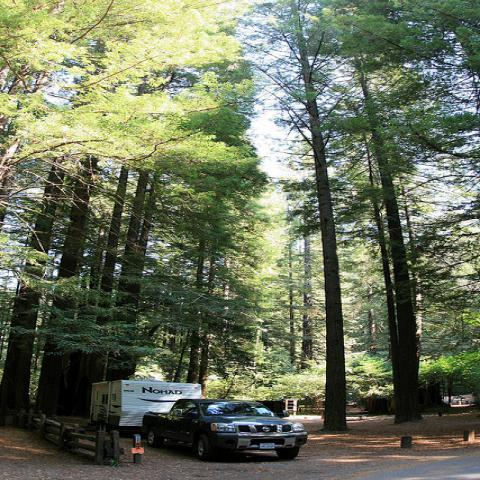truck: (140, 399, 308, 462)
